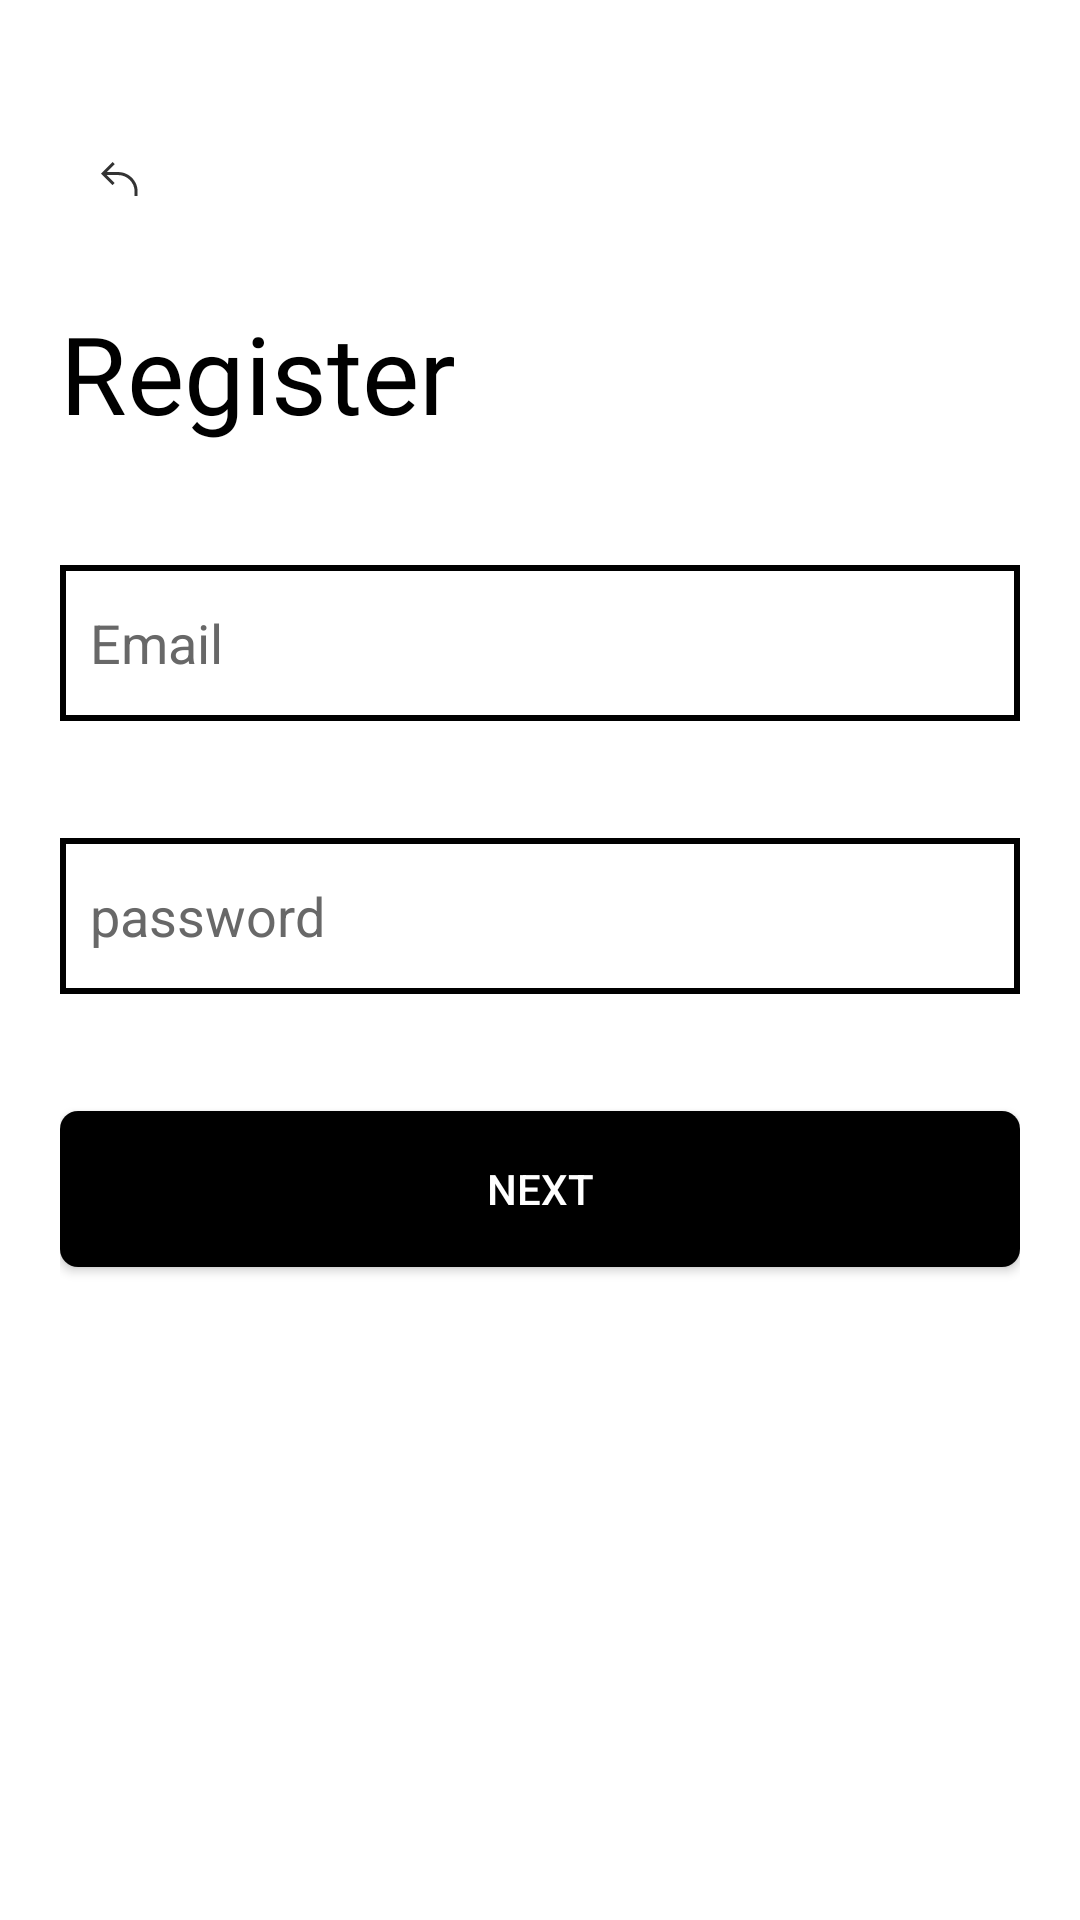

Icon bounding boxes for this 1080 x 1920 phone screenshot, format (x1, y1, x2, y2):
back: (101, 162, 138, 196)
